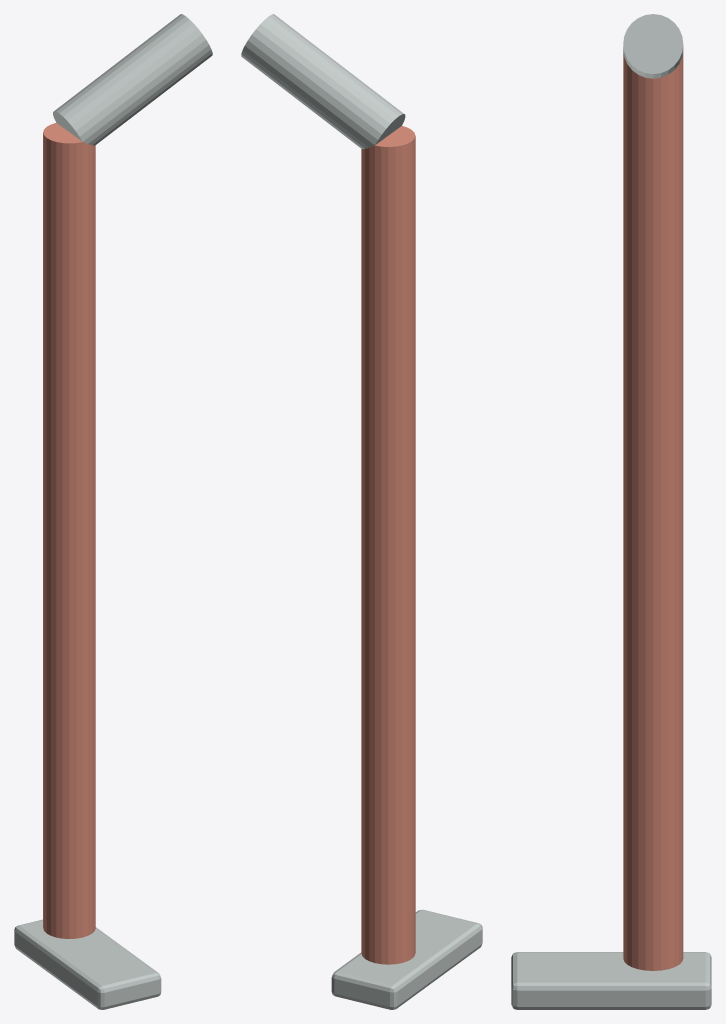
3 views of the same model, side by side, from view 1: azimuth 30°, elevation 25°; view 2: azimuth 150°, elevation 25°; view 3: azimuth 270°, elevation 25° (orthographic). The views are drawn at different scales.
Parts seen in each view (by area): view 1: pry shaft, hook, flattened foot; view 2: pry shaft, hook, flattened foot; view 3: pry shaft, flattened foot, hook.
Boxes of the visible parts, left/top/right/bottom form: pry shaft: left=43, top=123, right=95, bottom=938; hook: left=53, top=14, right=212, bottom=145; flattened foot: left=14, top=919, right=161, bottom=1009; pry shaft: left=361, top=126, right=415, bottom=964; hook: left=241, top=14, right=405, bottom=149; flattened foot: left=331, top=909, right=482, bottom=1009; pry shaft: left=623, top=51, right=683, bottom=970; flattened foot: left=511, top=952, right=711, bottom=1009; hook: left=623, top=14, right=683, bottom=78.
Bounding box in the file's own units: 0.133 × 0.6901 × 0.12.
